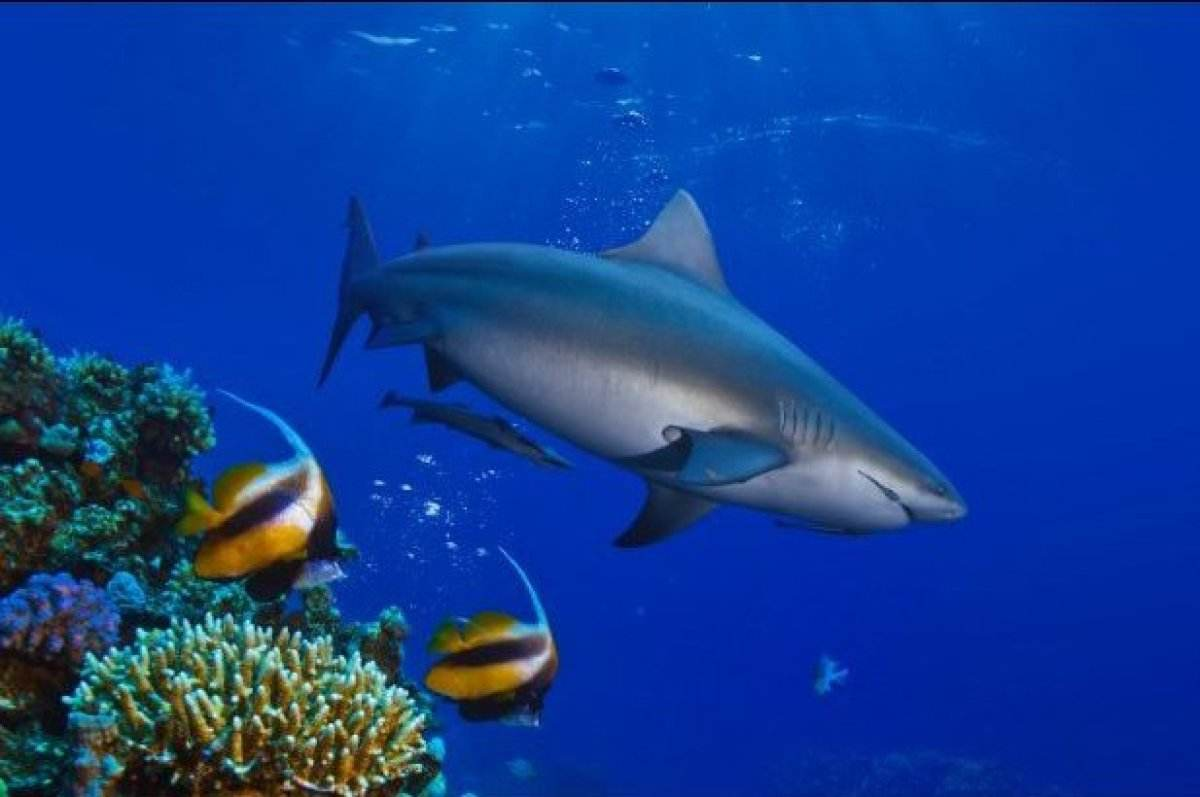shark: (328, 182, 976, 548)
